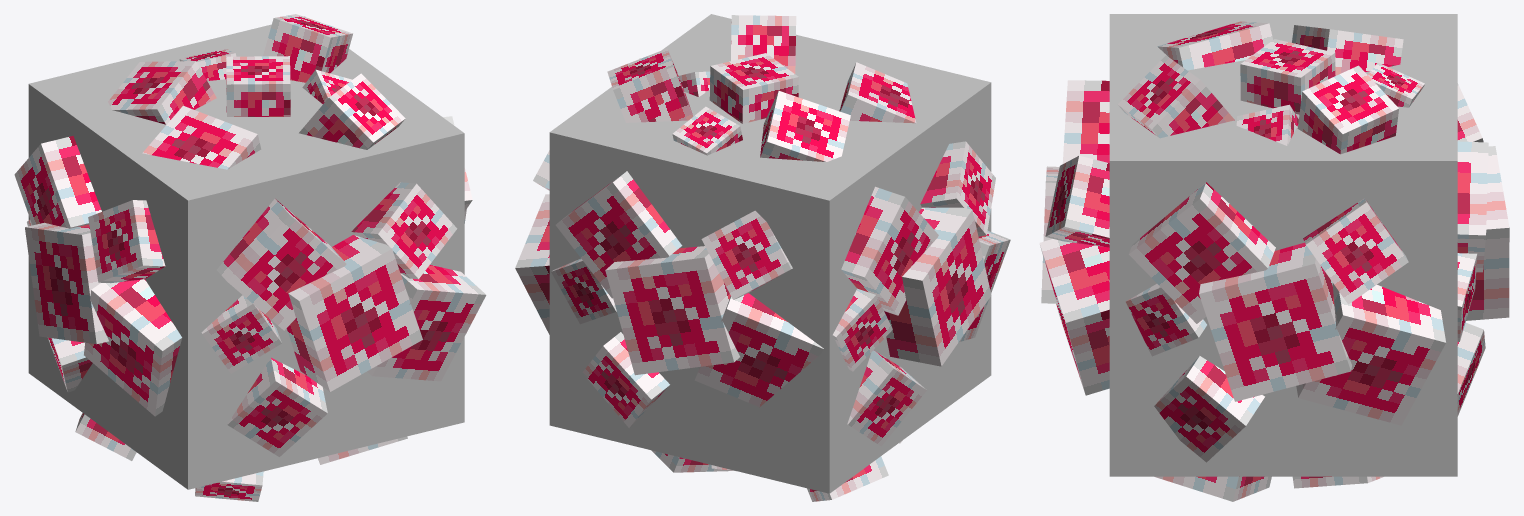
The model's file is rubi_ore_v5.obj.
The picture shows the model from 3 angles, left to right: view 1: azimuth 30°, elevation 25°; view 2: azimuth 150°, elevation 25°; view 3: azimuth 270°, elevation 25°; orthographic projection. The views are drawn at different scales.
Bounding box in the file's own units: 1.38 × 1.37 × 1.35.
